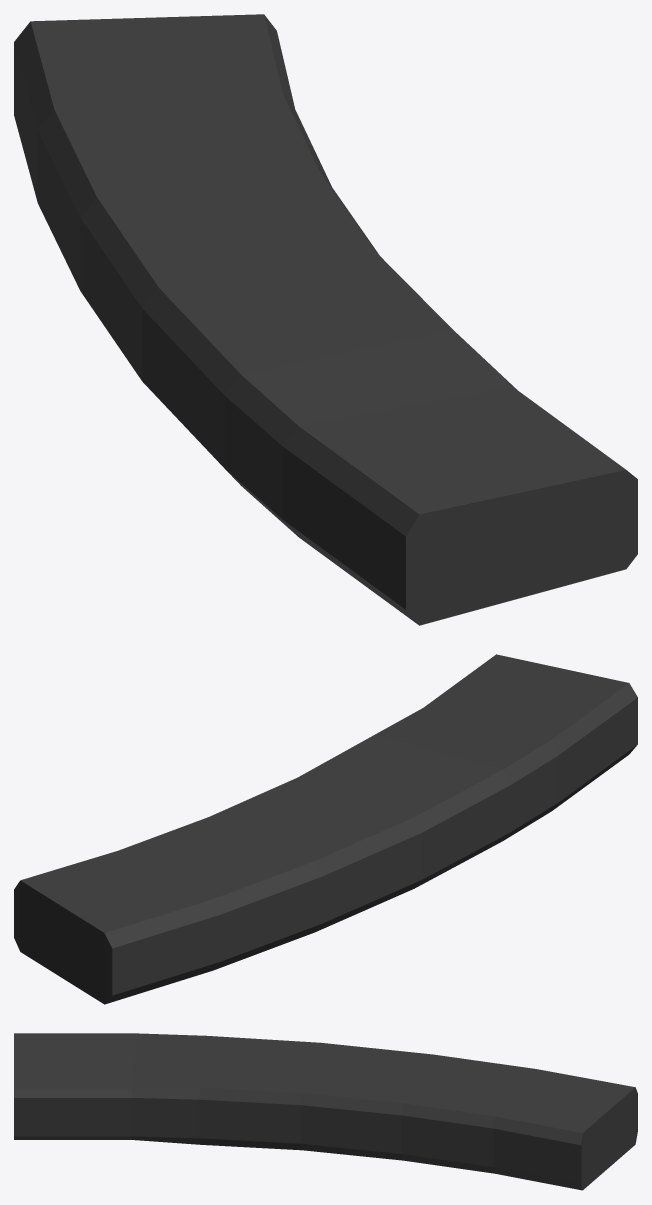
Rendered from STGMag.glb.
3 renders of one model, top to bottom at view 1: azimuth 30°, elevation 25°; view 2: azimuth 150°, elevation 25°; view 3: azimuth 270°, elevation 25°, orthographic. The views are drawn at different scales.
Parts seen in each view (by area): view 1: STGMag; view 2: STGMag; view 3: STGMag.
Boxes of the visible parts, <box> form: STGMag: <box>14,14,637,625</box>; STGMag: <box>14,654,637,1004</box>; STGMag: <box>14,1033,637,1190</box>.
Bounding box in the file's own units: 0.5321 × 0.1345 × 1.33.
1 material, 1 textured.
